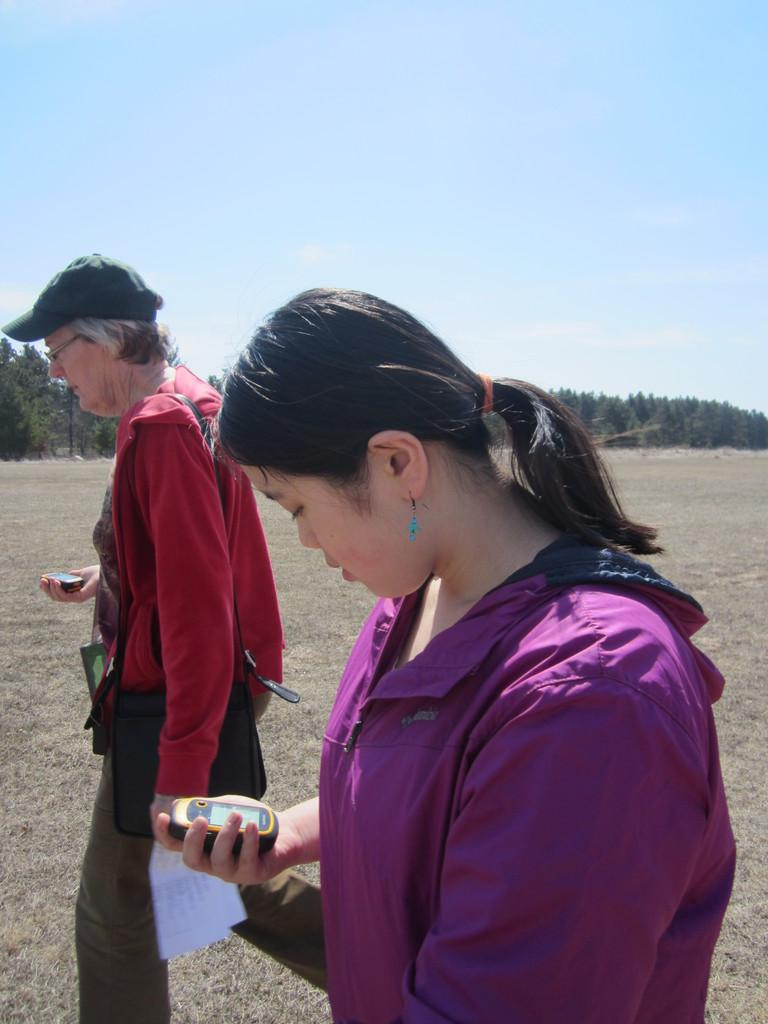Hat: (0, 247, 161, 344)
